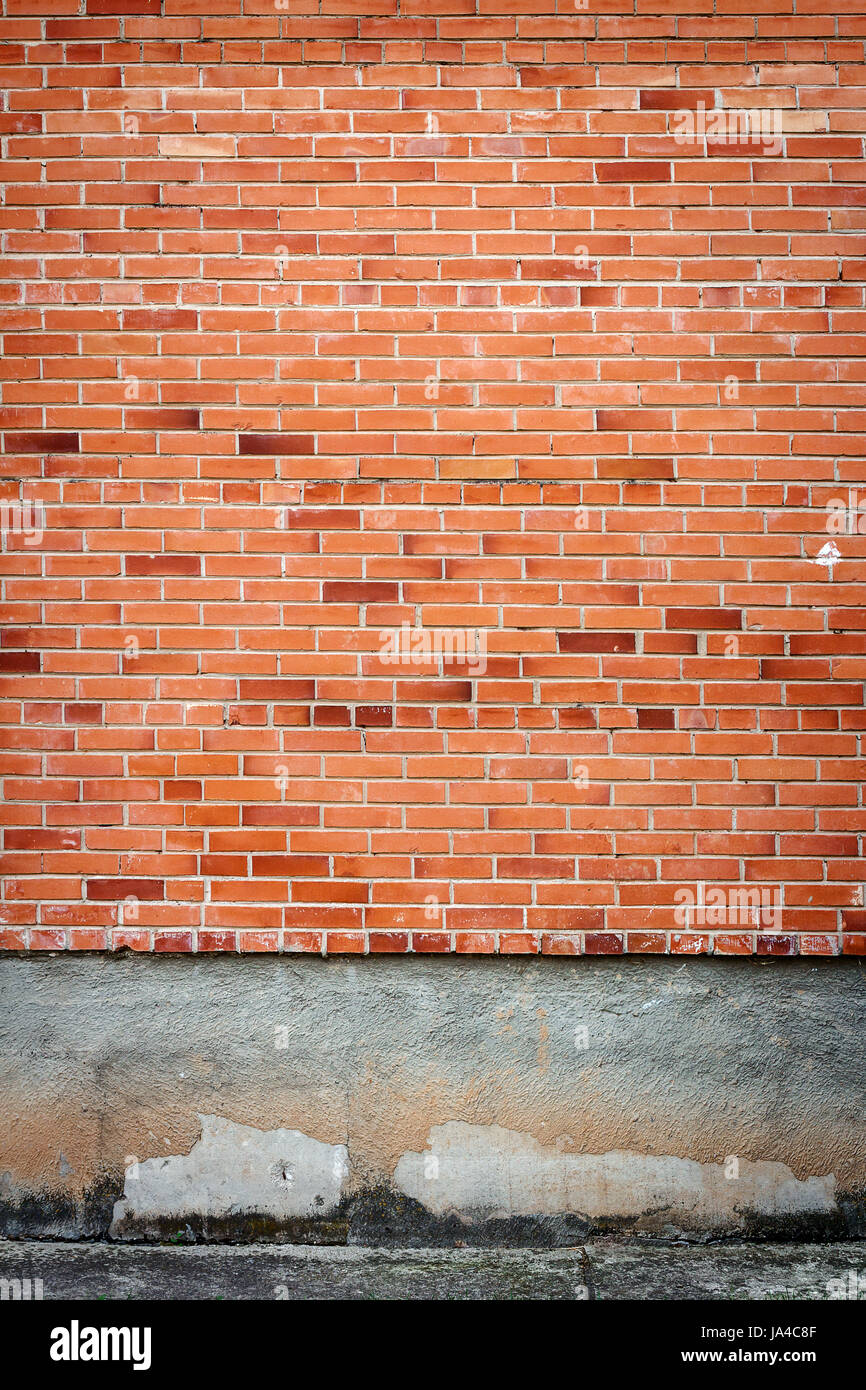Wall: (38, 36, 729, 951)
